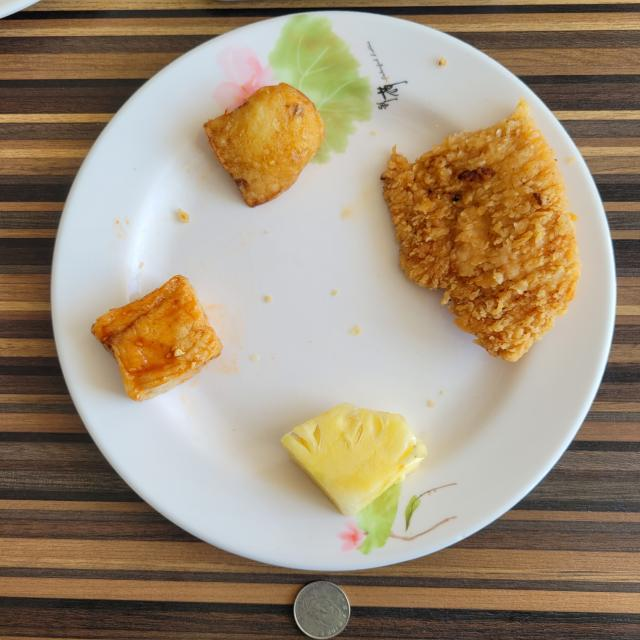coin: (294, 581, 350, 640)
creamy tofu: (91, 275, 222, 401)
fried chicken cutlet: (381, 99, 581, 361)
fried potato: (204, 82, 325, 208)
pineapple: (281, 402, 428, 515)
